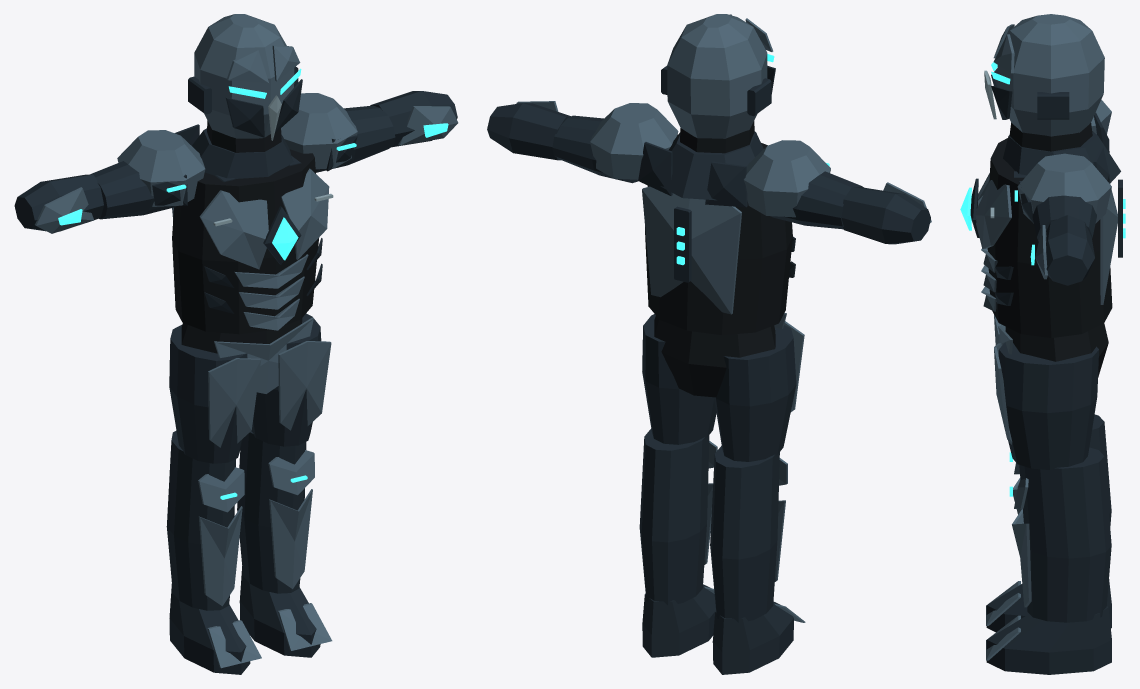
Rendered from PoweredArmor.gltf.
The picture shows the model from 3 angles, left to right: view 1: azimuth 30°, elevation 25°; view 2: azimuth 150°, elevation 25°; view 3: azimuth 270°, elevation 25°; orthographic projection.
Parts seen in each view (by area): view 1: Chest, Helmet, ShinRight, ShinLeft, ThighRight, ShoulderRight, ThighLeft, ShoulderLeft, BootRight, BootLeft, ForearmRight, Pelvis (+1 smaller); view 2: Chest, Helmet, ShinRight, ShinLeft, ThighRight, ShoulderRight, ShoulderLeft, Pelvis, ThighLeft, BootRight, ForearmRight, BootLeft (+1 smaller); view 3: Chest, ShinLeft, Helmet, ThighLeft, BootLeft, ShoulderLeft, ForearmLeft, Pelvis, BootRight, ShinRight, ShoulderRight.
Part boxes in pixels (<box>): Chest: <box>172,124,333,334</box>; Helmet: <box>188,14,302,152</box>; ShinRight: <box>166,430,244,610</box>; ShinLeft: <box>237,431,314,593</box>; ThighRight: <box>169,325,260,463</box>; ShoulderRight: <box>90,130,205,219</box>; ThighLeft: <box>251,313,331,446</box>; ShoulderLeft: <box>281,93,395,172</box>; BootRight: <box>169,584,261,674</box>; BootLeft: <box>239,566,332,657</box>; ForearmRight: <box>14,174,103,233</box>; Pelvis: <box>181,317,313,393</box>; Chest: <box>638,131,795,335</box>; Helmet: <box>661,14,775,153</box>; ShinRight: <box>710,446,787,622</box>; ShinLeft: <box>639,428,717,605</box>; ThighRight: <box>714,321,804,461</box>; ShoulderRight: <box>744,140,863,229</box>; ShoulderLeft: <box>552,103,678,183</box>; Pelvis: <box>654,313,786,397</box>; ThighLeft: <box>642,314,716,444</box>; BootRight: <box>712,601,805,674</box>; ForearmRight: <box>841,182,931,244</box>; BootLeft: <box>642,584,715,657</box>; Chest: <box>960,112,1125,337</box>; ShinLeft: <box>1009,447,1111,622</box>; Helmet: <box>984,14,1104,151</box>; ThighLeft: <box>994,342,1098,470</box>; BootLeft: <box>986,606,1111,674</box>; ShoulderLeft: <box>1014,153,1111,241</box>; ForearmLeft: <box>1030,215,1094,285</box>; Pelvis: <box>998,323,1108,377</box>; BootRight: <box>986,579,1111,632</box>; ShinRight: <box>1009,414,1111,526</box>; ShoulderRight: <box>1091,99,1111,134</box>.
Size of the model in its own units: 1.37 by 1.93 by 0.4615.
